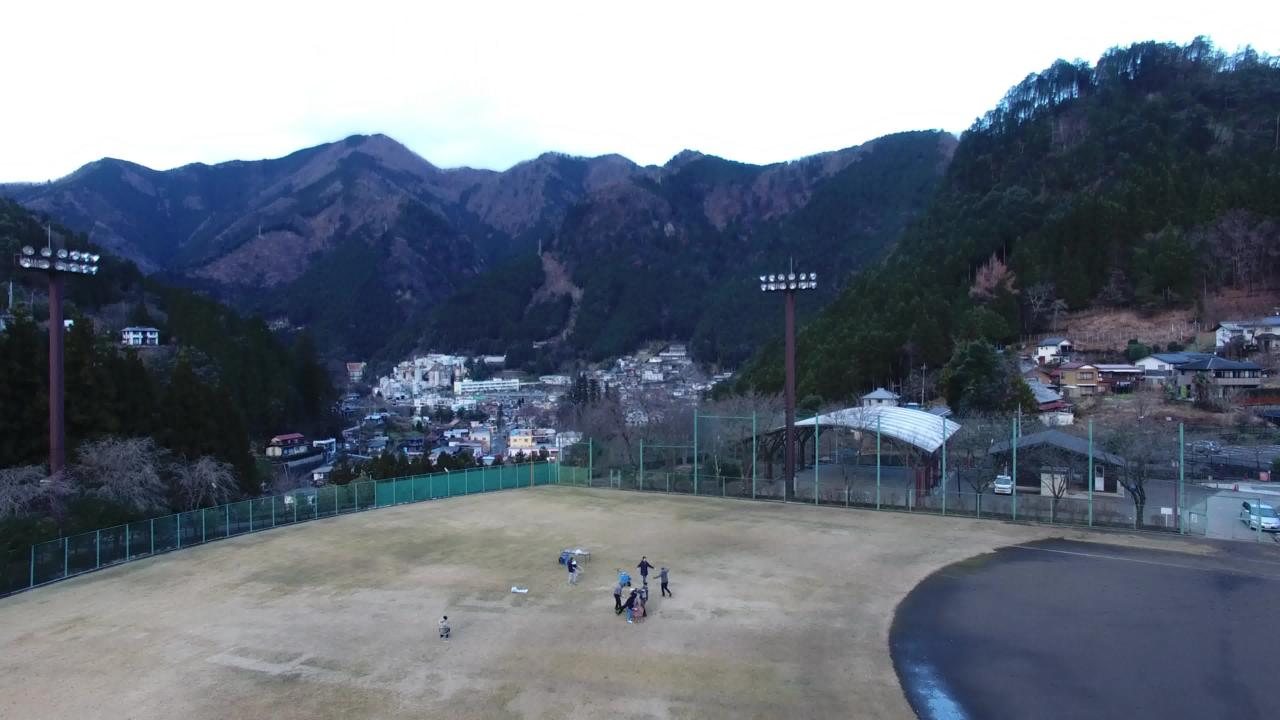person: (558, 555, 586, 593), (622, 586, 640, 617), (435, 610, 455, 637), (633, 551, 650, 581), (657, 564, 672, 598), (638, 580, 652, 613), (613, 585, 624, 612)
